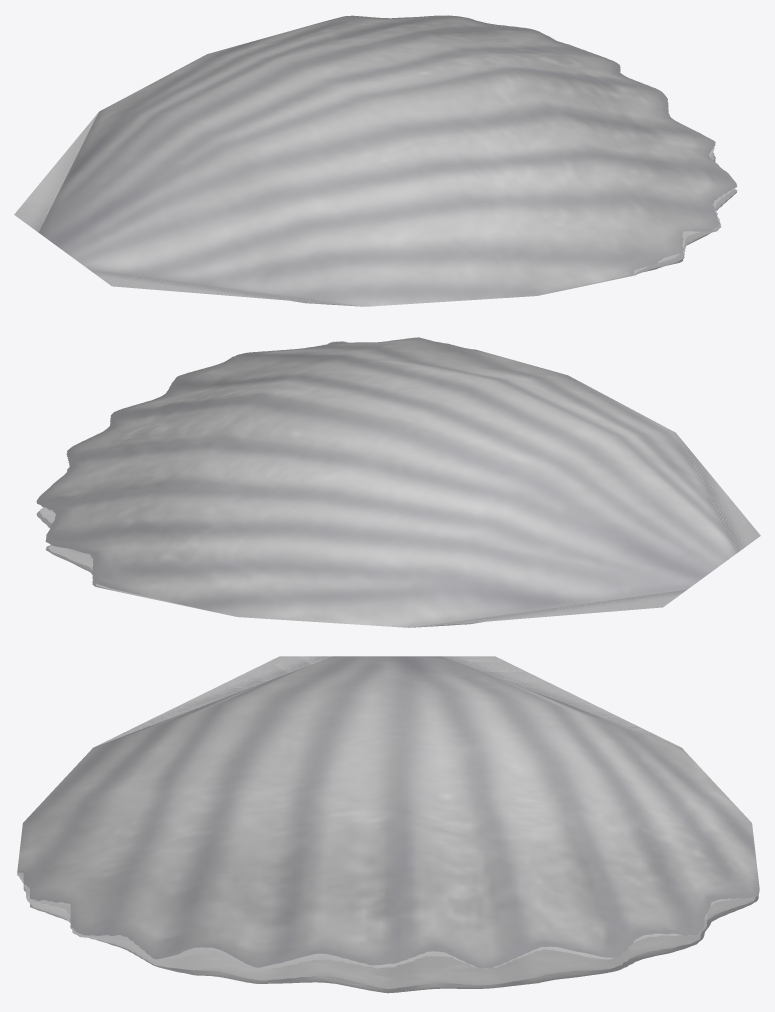
File: shellClose.fbx
3 views of the same model, one above another, from view 1: azimuth 30°, elevation 25°; view 2: azimuth 150°, elevation 25°; view 3: azimuth 270°, elevation 25° (orthographic). The views are drawn at different scales.
Visible parts, largest first — view 1: shellCloseObject; view 2: shellCloseObject; view 3: shellCloseObject.
Boxes of the visible parts, x1=… form: shellCloseObject: x1=14, y1=15, x2=737, y2=306; shellCloseObject: x1=36, y1=337, x2=760, y2=627; shellCloseObject: x1=17, y1=656, x2=759, y2=993.
Size of the model in its own units: 0.1823 by 0.0409 by 0.1692.
Materials: 1 (1 with a texture image).
